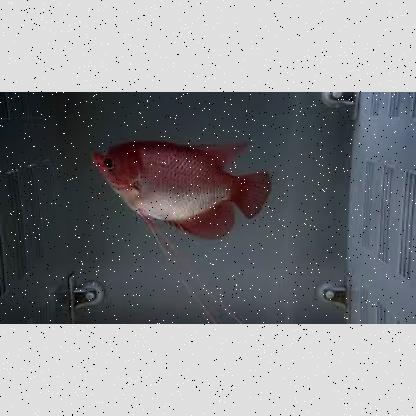gurame: (89, 140, 272, 240)
